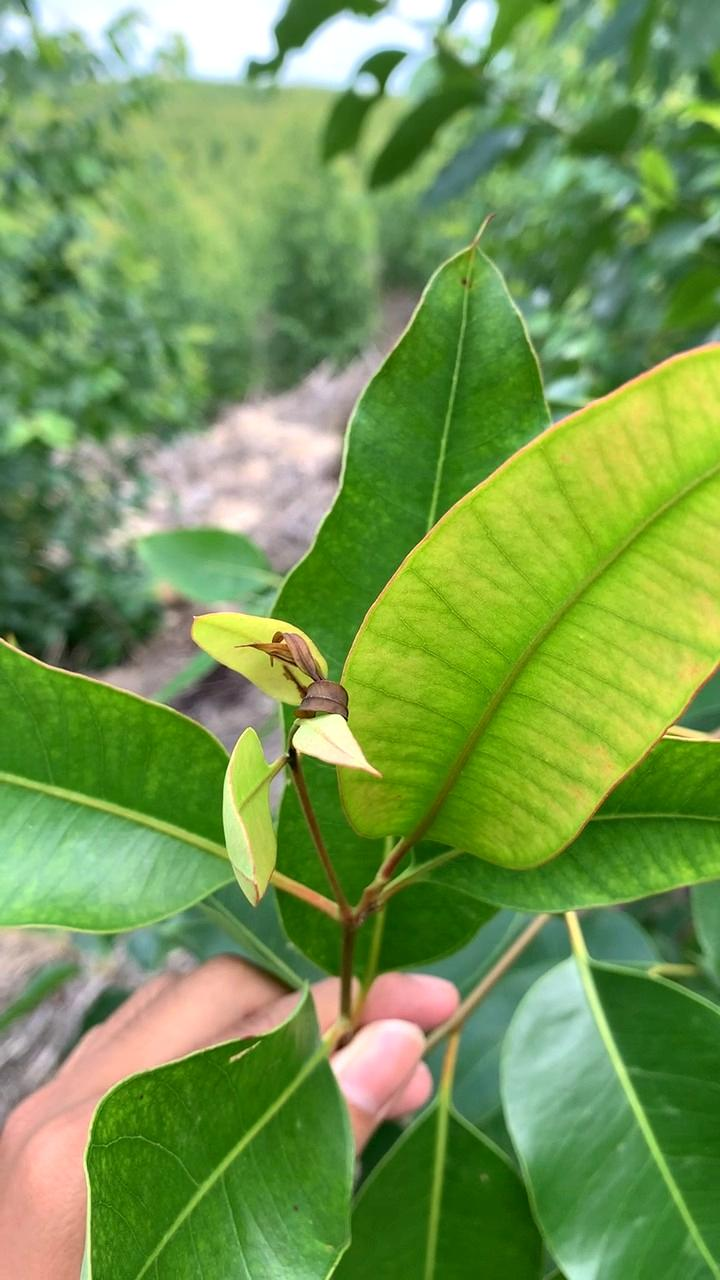Helopeltis-Withered Sprout: (213, 590, 403, 805)
